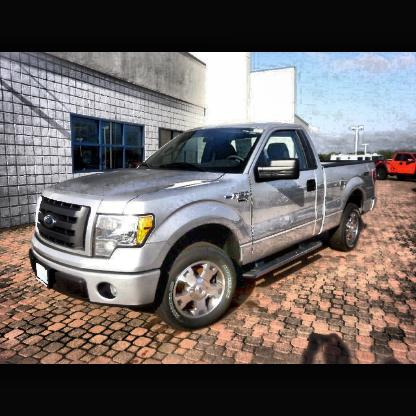Ford F-150 Regular Cab 2012: (28, 121, 378, 334)
